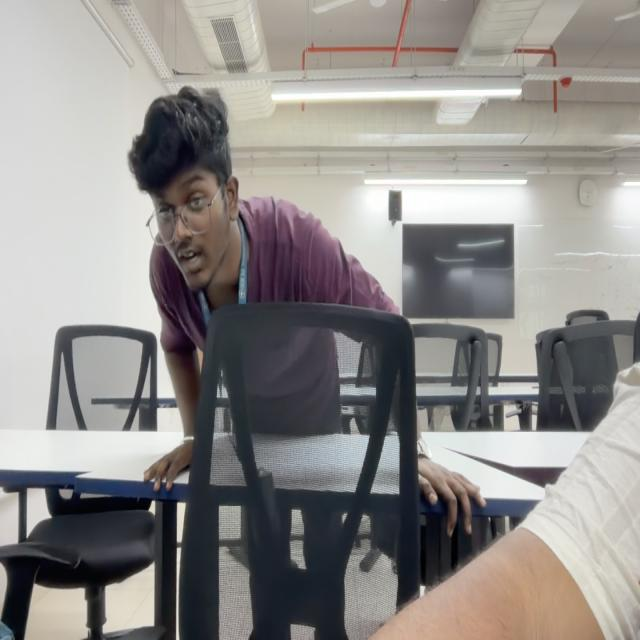ravindra: (127, 86, 240, 296)
